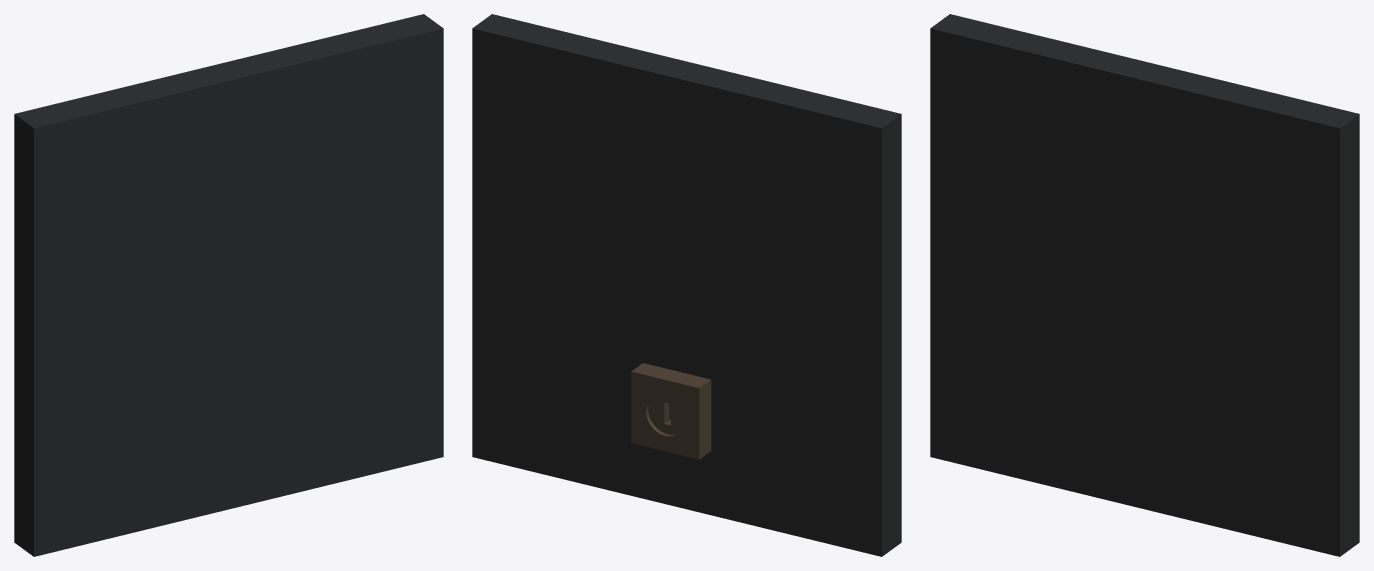
File: boss_door.glb
3 renders of one model, left to right at view 1: azimuth 30°, elevation 25°; view 2: azimuth 150°, elevation 25°; view 3: azimuth 330°, elevation 25°, orthographic.
Parts seen in each view (by area): view 1: Cube.007, Cube.005; view 2: Cube.007, Cube.005, Cube.006; view 3: Cube.005, Cube.007.
Boxes of the visible parts, x1=… form: Cube.007: x1=14, y1=64, x2=238, y2=556; Cube.005: x1=219, y1=14, x2=443, y2=506; Cube.007: x1=677, y1=64, x2=901, y2=556; Cube.005: x1=472, y1=14, x2=696, y2=506; Cube.006: x1=631, y1=363, x2=711, y2=459; Cube.005: x1=1135, y1=64, x2=1359, y2=556; Cube.007: x1=930, y1=14, x2=1154, y2=506.
Bounding box in the file's own units: 6 × 6 × 0.8.
